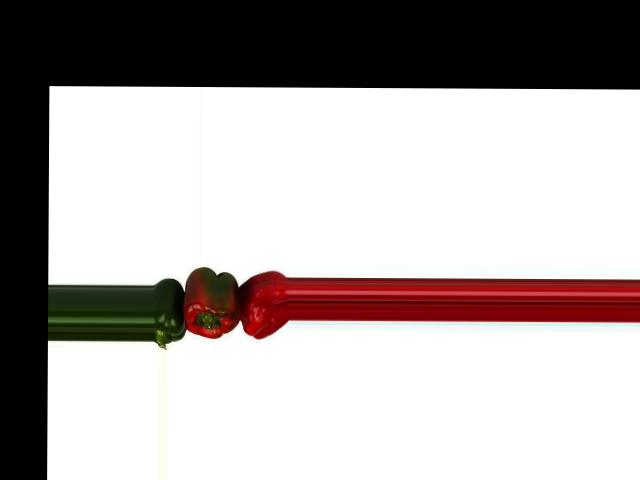bell_pepper: (237, 267, 288, 345)
